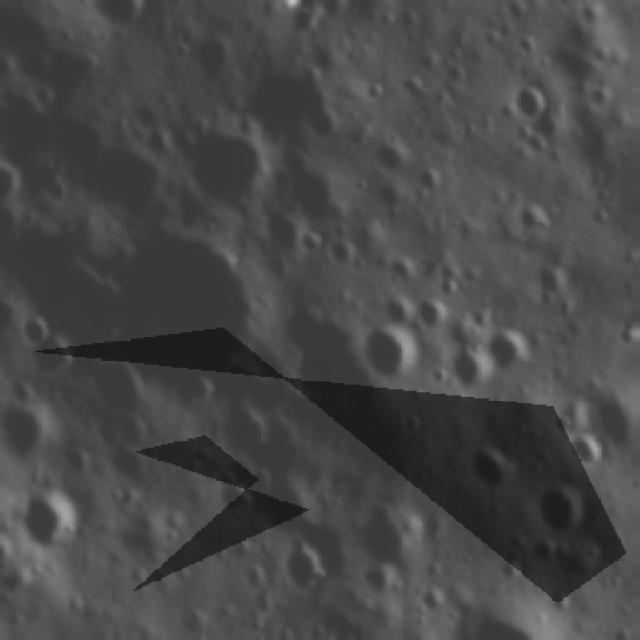crater: (103, 228, 274, 402), (178, 113, 282, 213), (242, 53, 344, 145), (20, 487, 97, 564), (359, 318, 430, 394), (358, 500, 431, 572), (1, 391, 58, 467), (534, 483, 597, 543), (445, 344, 498, 410), (282, 536, 332, 602), (464, 446, 522, 499), (488, 326, 544, 380), (28, 333, 81, 387), (510, 76, 561, 124), (193, 30, 236, 81), (566, 433, 614, 478), (532, 262, 577, 304), (518, 125, 562, 167), (15, 308, 56, 352), (515, 198, 553, 240), (417, 290, 451, 335), (332, 232, 366, 274), (433, 273, 467, 304)
